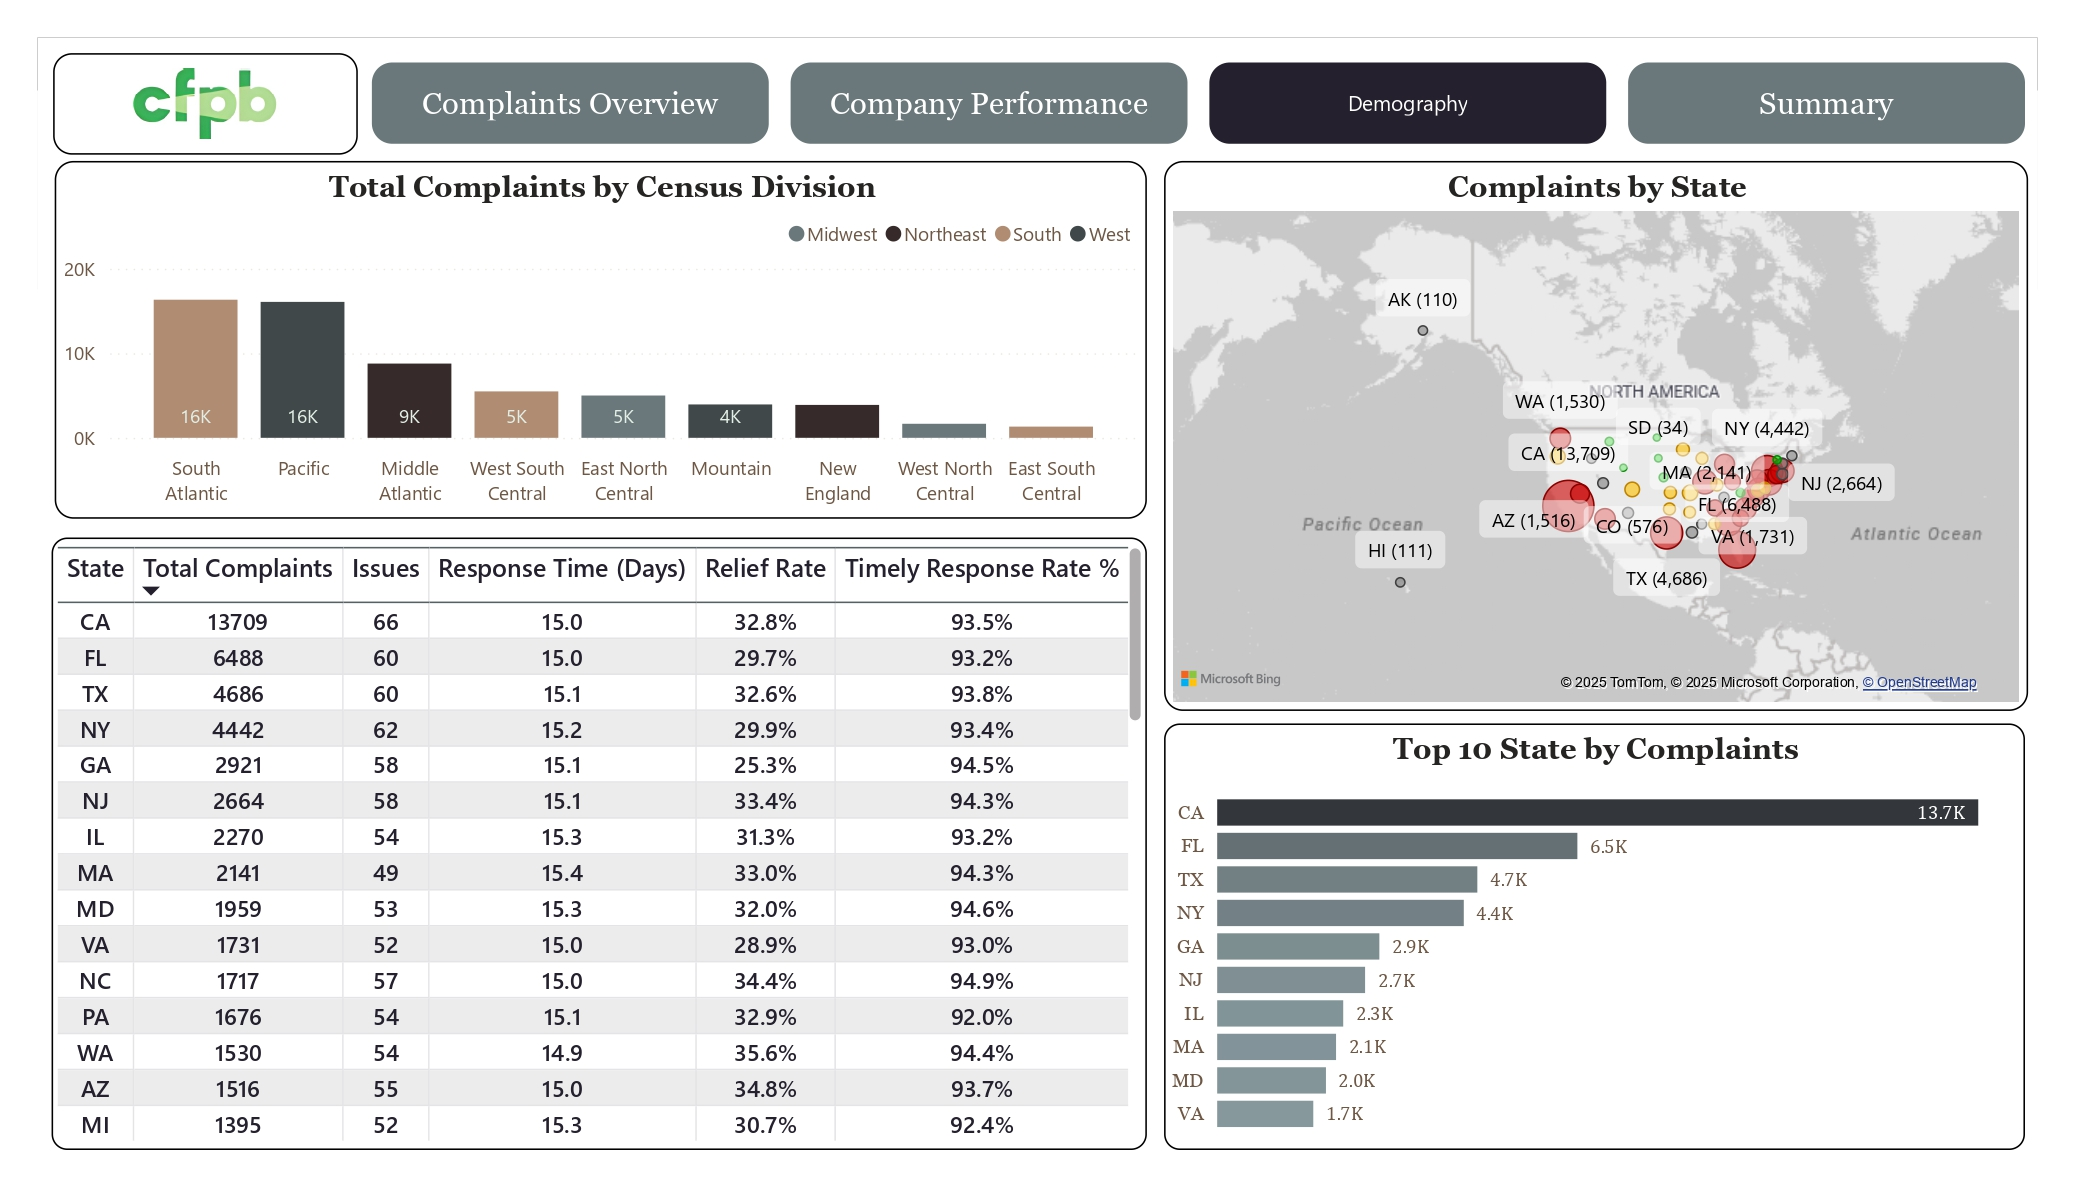

Layout of this report page (visuals, bound fields, positions):
{"tool":"powerbi","page":{"name":"Demography","canvas":[1280,720],"ordinal":2},"visuals":[{"type":"map","title":"Complaints by State","fields":{"Size":["Complaints (Fact).Total Complaints"],"Category":["Complaints (Fact).LocationLabel"],"Y":["Avg(Complaints (Fact).State_Latitude)"],"X":["Avg(Complaints (Fact).State_Longitude)"]},"box":[720.9,78.6,553,352.7],"z":0},{"type":"pageNavigator","box":[214.4,7.4,1058.5,66.5],"z":1000},{"type":"image","box":[10.3,10.3,195.1,65],"z":2000},{"type":"columnChart","title":"Total Complaints by Census Division","fields":{"Y":["Complaints (Fact).Total Complaints"],"Category":["Complaints (Fact).Census_Division"],"Series":["Complaints (Fact).Census_Region"]},"box":[10.8,78.6,699.3,229.5],"z":4000},{"type":"barChart","title":"Top 10 State by Complaints  ","fields":{"Category":["Complaints (Fact).State"],"Y":["Complaints (Fact).Total Complaints"]},"box":[720.9,439,551.4,272.6],"z":5000},{"type":"tableEx","fields":{"Values":["Complaints (Fact).State","Complaints (Fact).Total Complaints","Complaints (Fact).Issue","Complaints (Fact).Avg response Time(Days)","Complaints (Fact).Relief Rate","Complaints (Fact).Timely Response Rate %"]},"box":[9.2,320.4,700.8,391.2],"z":6000}]}

Visuals, with their boxes in screenshot pixels (x1, y1, x2, y2):
"Complaints by State" map: crop(1164, 160, 2028, 711)
pageNavigator: crop(372, 49, 2026, 153)
image: crop(54, 54, 358, 155)
"Total Complaints by Census Division" columnChart: crop(54, 160, 1147, 519)
"Top 10 State by Complaints  " barChart: crop(1164, 723, 2025, 1149)
tableEx - Complaints (Fact).State x Complaints (Fact).Total Complaints: crop(52, 538, 1147, 1149)
